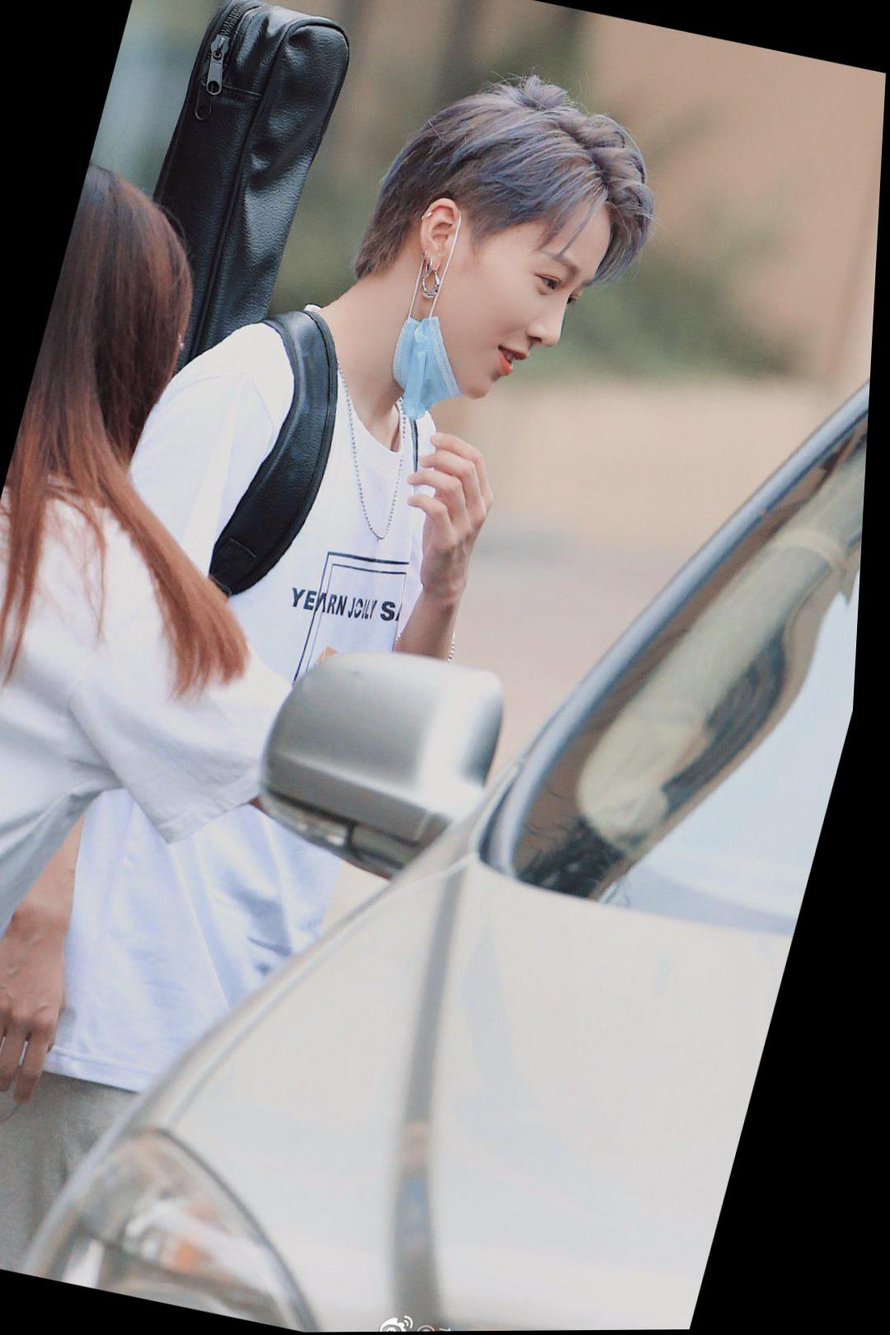WRONG: (424, 204, 616, 424)
